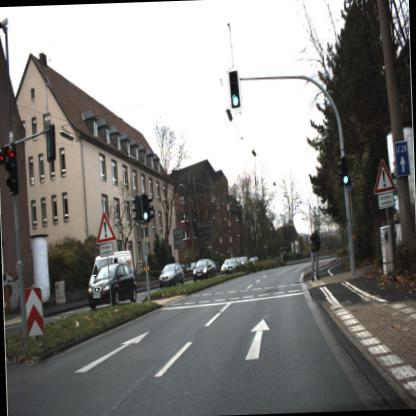danger: (368, 155, 400, 199), (94, 207, 117, 246)
